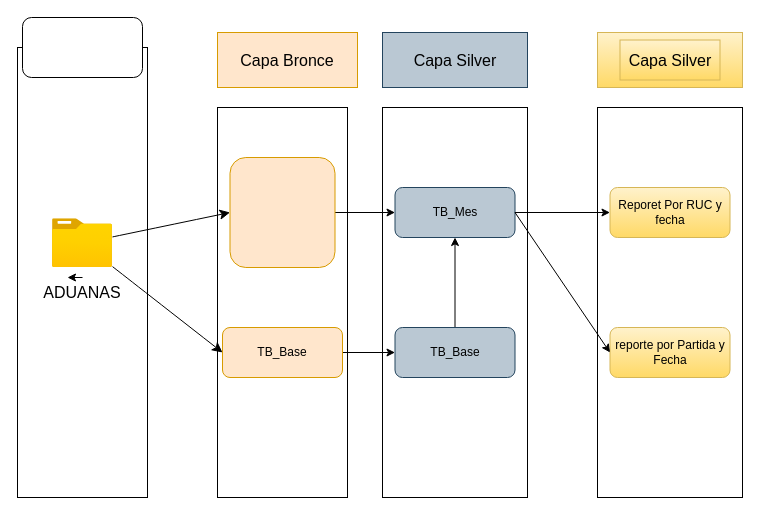
The diagram is 760 pixels wide and 515 high, and some of its shapes have lost their labels. The centre of each missing label's shape, as x and y in pixels:
"Source/Fuente" belongs at [82,47].
"TBSemana1 TBSemana2 TBSemana3 . . ." belongs at [282,212].
